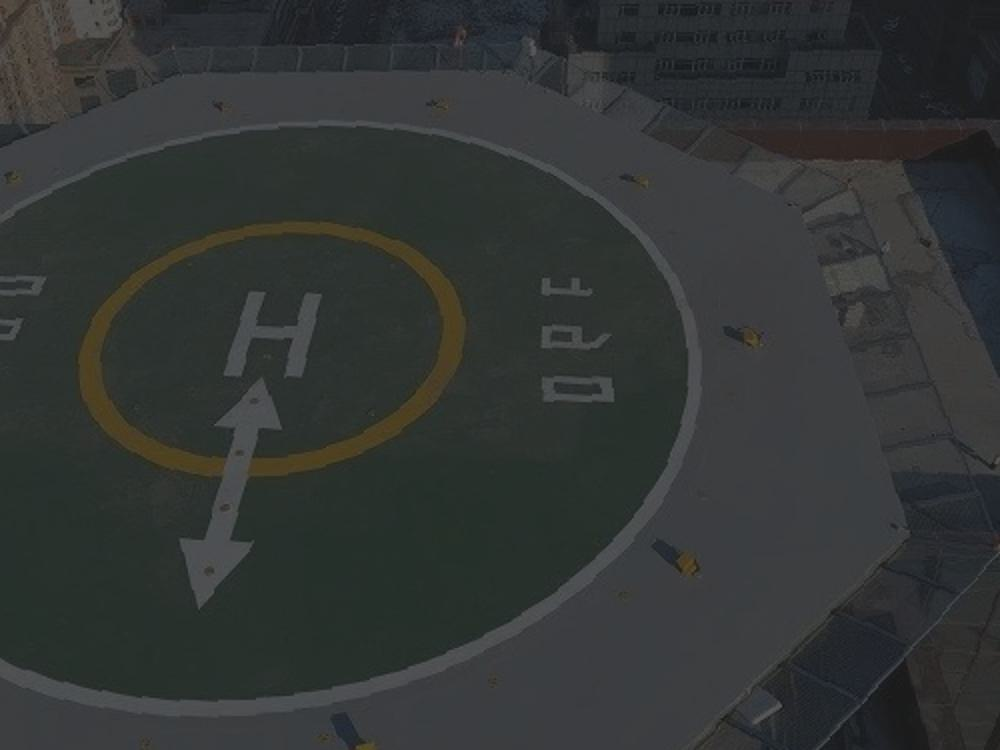Apron: (65, 212, 475, 486)
